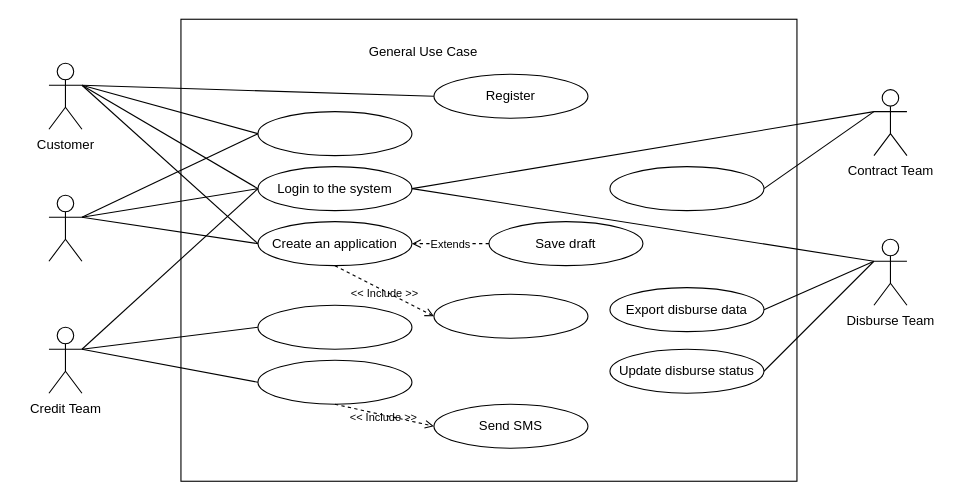
Image size: 954x501. Some labels were removed from this diagram. Each missing label, with the centre of its shape:
"Approve application" belongs at point 334,381.
"Create a profile" belongs at point 334,133.
"Create contract" belongs at point 686,188.
"Marketing Team" belongs at point 65,227.
"Submit applicaton" belongs at point 510,315.
"View application" belongs at point 334,326.
